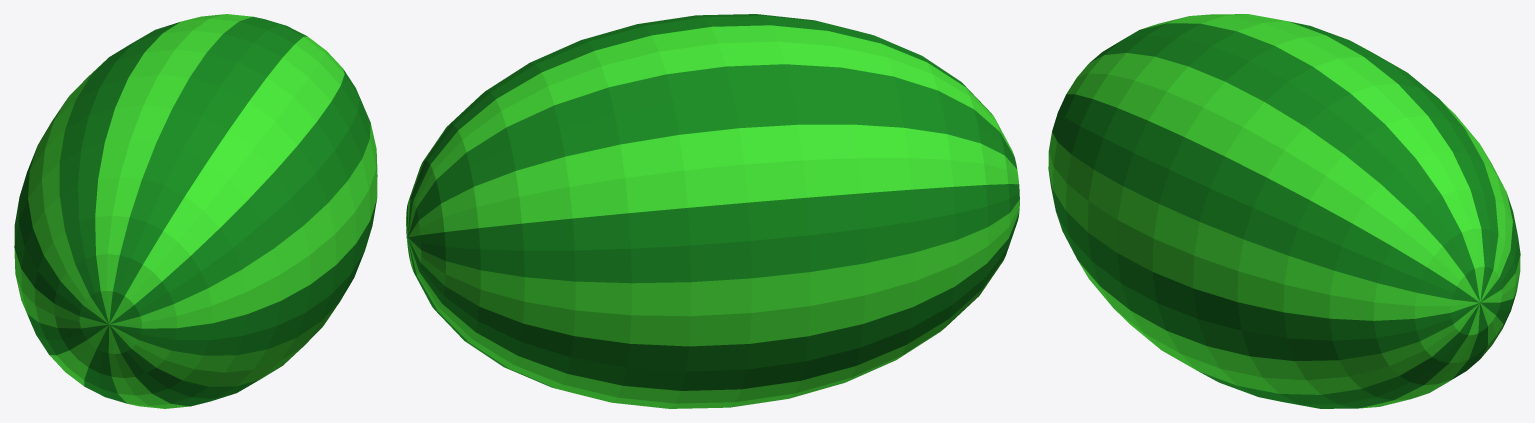
The model's file is frutta.fbx.
3 renders of one model, left to right at view 1: azimuth 30°, elevation 25°; view 2: azimuth 150°, elevation 25°; view 3: azimuth 270°, elevation 25°, orthographic. The views are drawn at different scales.
Visible parts, largest first — view 1: Cocomero; view 2: Cocomero; view 3: Cocomero.
Boxes of the visible parts, x1,y1,x2,y2 form: Cocomero: (14, 14, 377, 408); Cocomero: (406, 14, 1019, 408); Cocomero: (1048, 14, 1520, 408).
Bounding box in the file's own units: 327 × 246 × 312.
